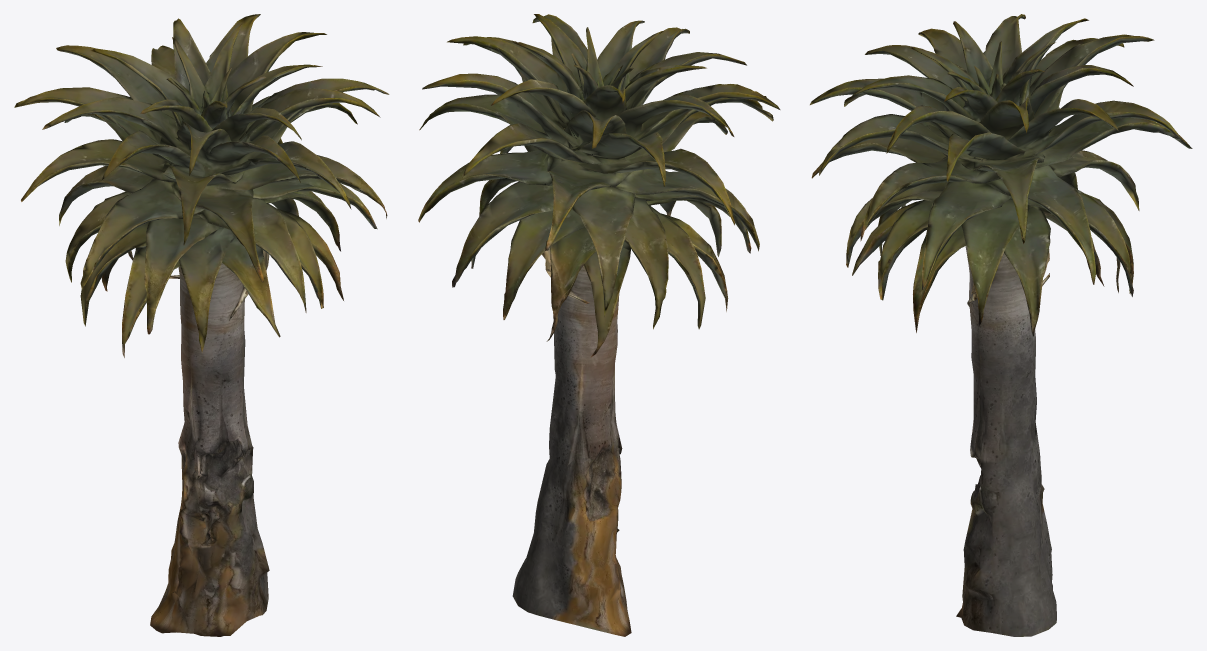
File: quiver_tree_02.glb
3 views of the same model, side by side, from view 1: azimuth 30°, elevation 25°; view 2: azimuth 150°, elevation 25°; view 3: azimuth 270°, elevation 25° (orthographic).
Visible parts, largest first — view 1: quiver_tree_02; view 2: quiver_tree_02; view 3: quiver_tree_02.
Part boxes in pixels (bbox=[...]): quiver_tree_02: bbox=[14, 14, 389, 636]; quiver_tree_02: bbox=[418, 14, 780, 636]; quiver_tree_02: bbox=[810, 14, 1192, 636].
Bounding box in the file's own units: 0.8716 × 1.47 × 0.8806.
1 material, 1 textured.
